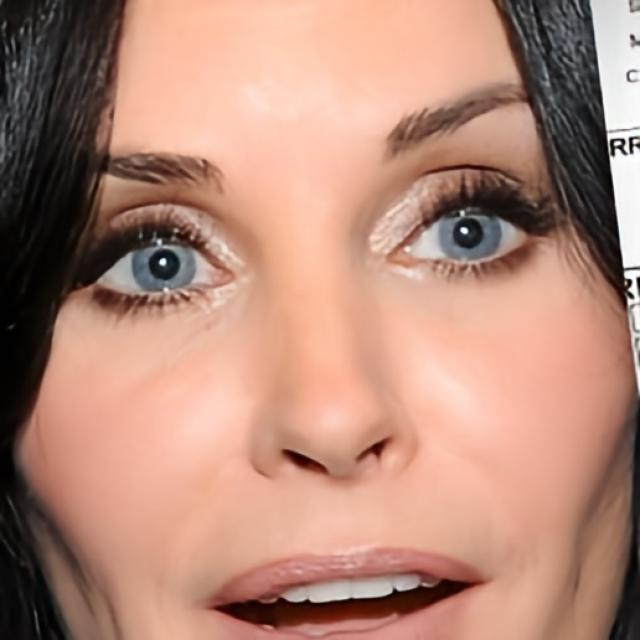surprise: (8, 1, 639, 640)
